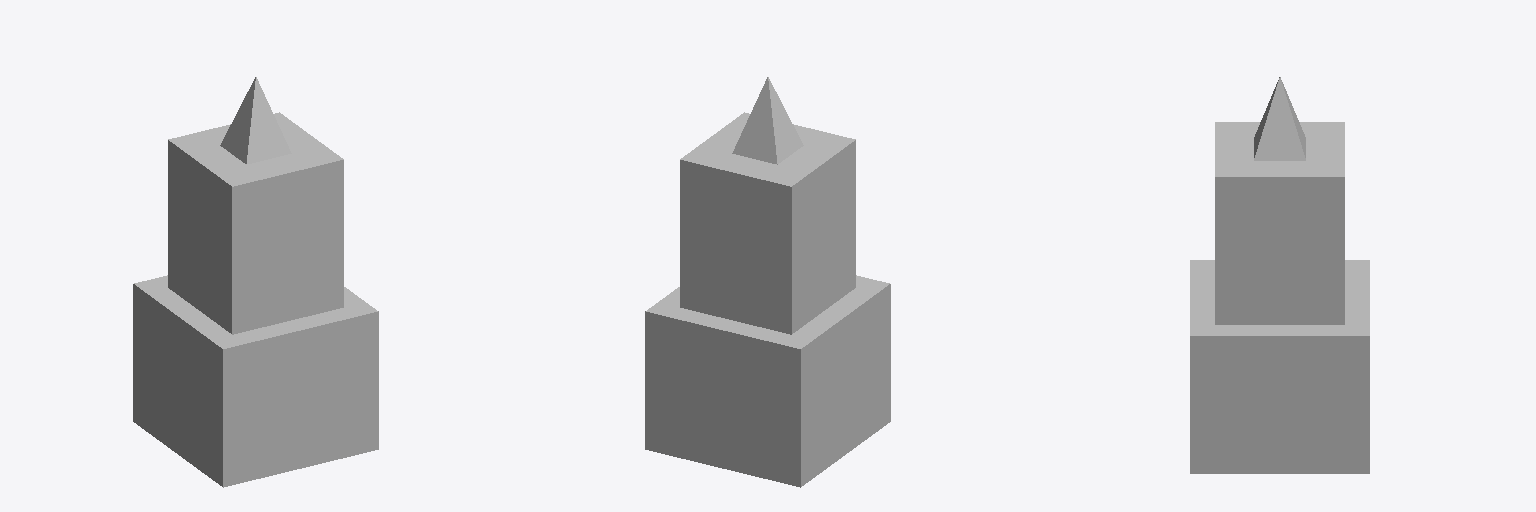
File: Огненная башня 1.obj
The picture shows the model from 3 angles: view 1: azimuth 30°, elevation 25°; view 2: azimuth 150°, elevation 25°; view 3: azimuth 270°, elevation 25°; orthographic projection.
Parts seen in each view (by area): view 1: Cube; view 2: Cube; view 3: Cube.
Boxes of the visible parts, x1,y1,x2,y2 form: Cube: [133, 77, 378, 487]; Cube: [645, 77, 890, 487]; Cube: [1190, 77, 1369, 473].
Size of the model in its own units: 2 by 4.42 by 2.